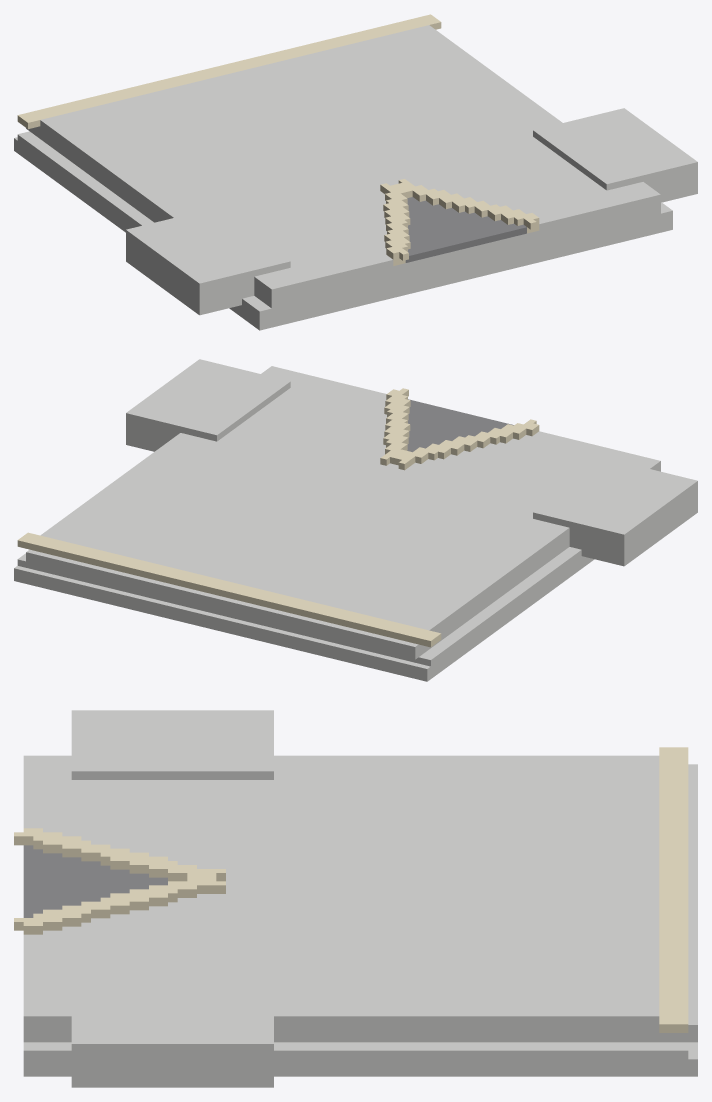
File: undershirt.glb
The picture shows the model from 3 angles, top to bottom: view 1: azimuth 30°, elevation 25°; view 2: azimuth 150°, elevation 25°; view 3: azimuth 270°, elevation 25°; orthographic projection. The views are drawn at different scales.
Visible parts, largest first — view 1: undershirt:compound; view 2: undershirt:compound; view 3: undershirt:compound.
Boxes of the visible parts, box(x1,y1,x2,y2) form: undershirt:compound: box(14, 14, 697, 330); undershirt:compound: box(14, 359, 697, 681); undershirt:compound: box(14, 710, 697, 1087).
Size of the model in its own units: 0.328 by 0.028 by 0.284.
